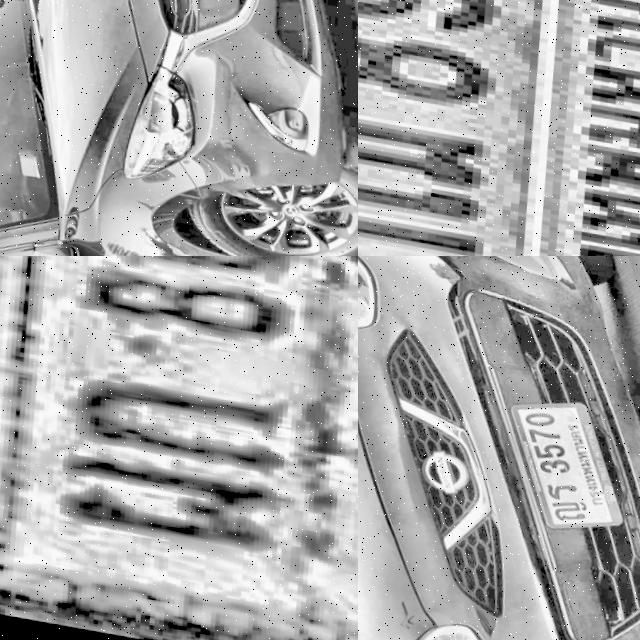license-plate: (0, 256, 358, 640), (358, 0, 640, 256), (490, 380, 637, 534)
